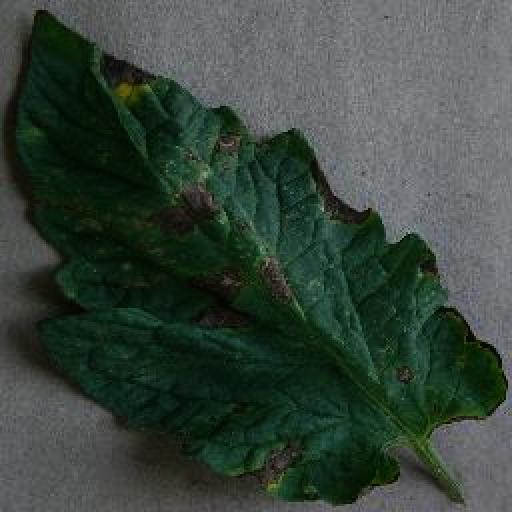Early Blight: (8, 10, 506, 504)
